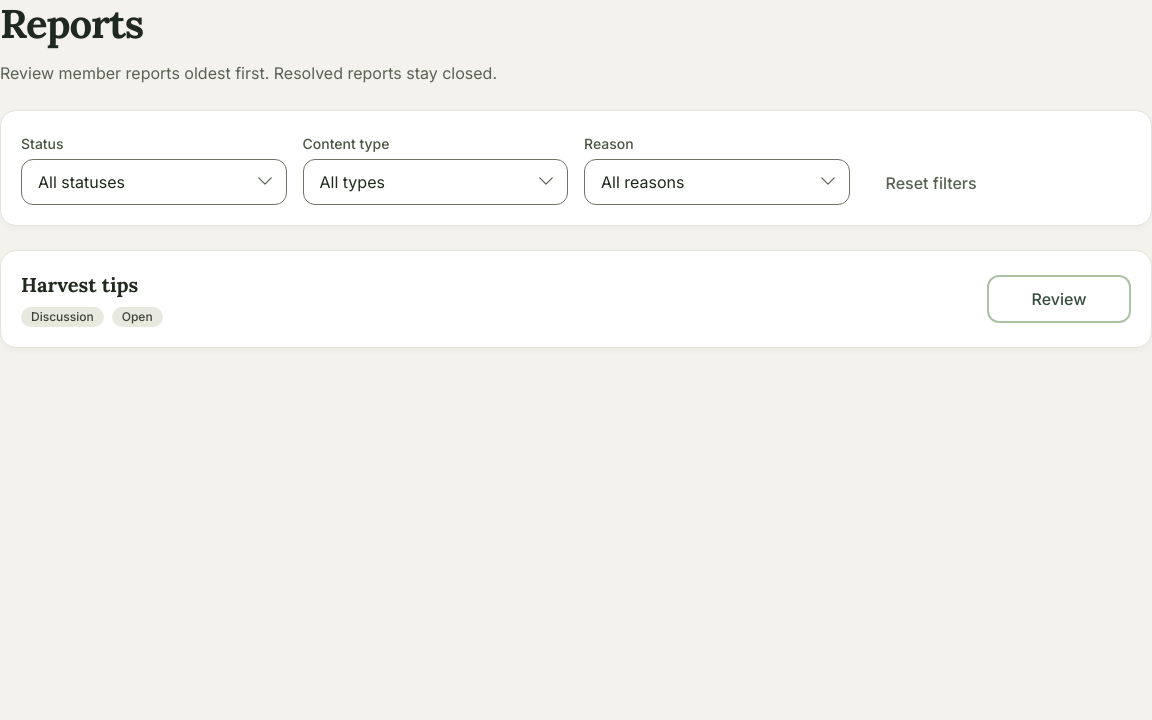
Test case: AdminReportsPage.vue › displays the source snapshot, current state, and reporter
The image size is (1152, 720).
What coordinates should you click on to do the following:
click the button "Review"
I would click on:
 (1059, 299)
Its box is [987,275,1131,323].
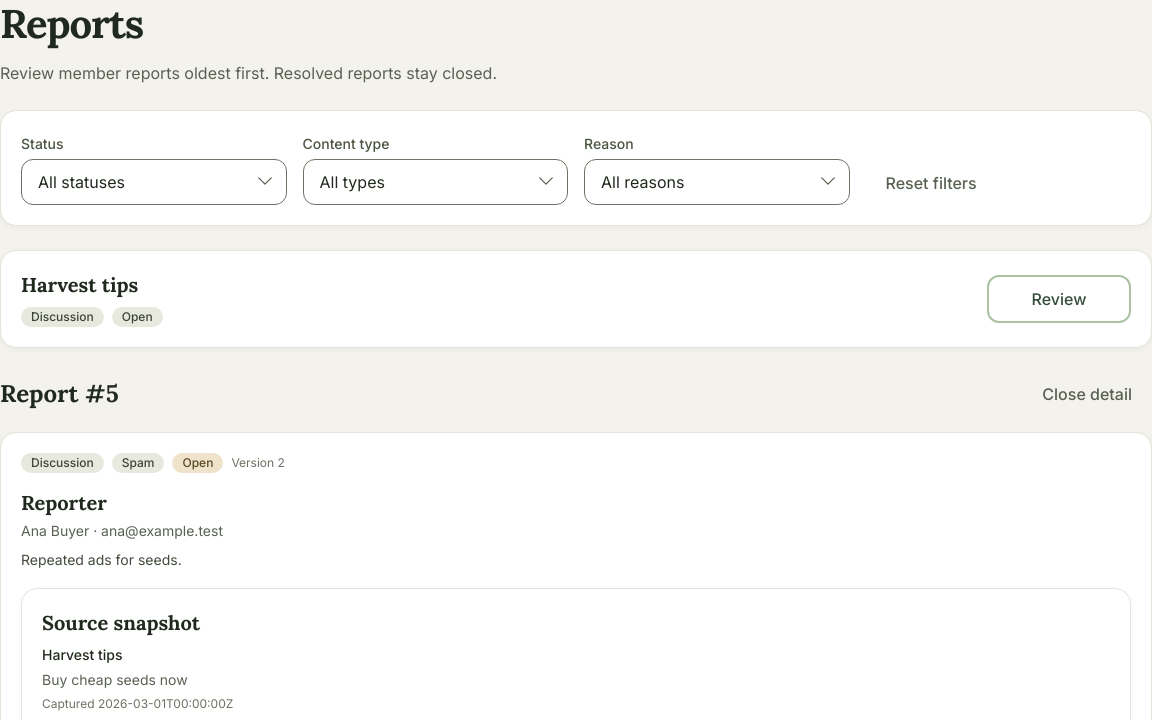
Check: the text "Buy cheap seeds now" is shown, box [42,671,188,688]
Check: the text "Ana Buyer" is shown, box [21,522,89,539]
Check: the text "Version 2" is shown, box [231,455,285,471]
